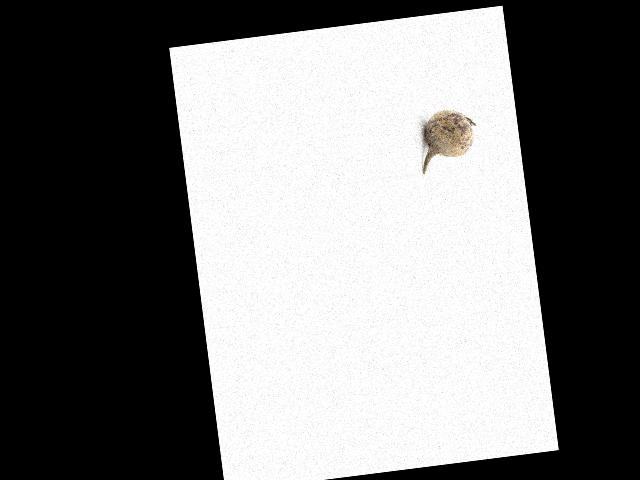beet: (415, 105, 480, 174)
